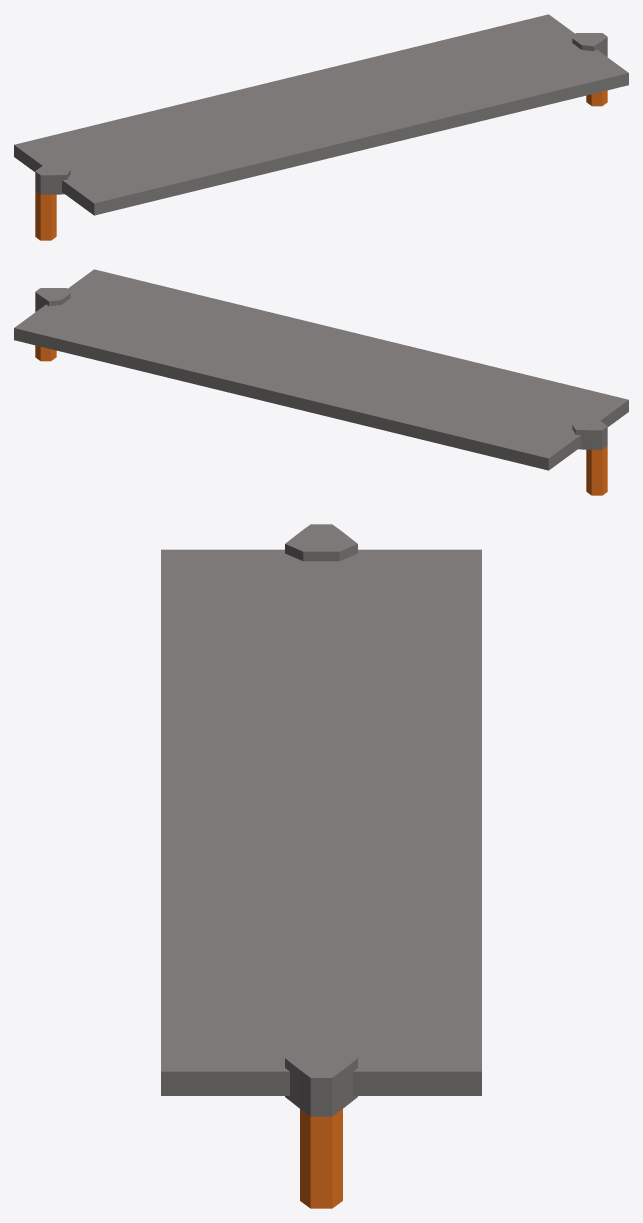
File: scifi_scifi-hydroponic-shelf-top.fbx
The picture shows the model from 3 angles, top to bottom: view 1: azimuth 30°, elevation 25°; view 2: azimuth 150°, elevation 25°; view 3: azimuth 270°, elevation 25°; orthographic projection. The views are drawn at different scales.
Parts seen in each view (by area): view 1: scifi_scifi_hydroponic_shelf_top; view 2: scifi_scifi_hydroponic_shelf_top; view 3: scifi_scifi_hydroponic_shelf_top.
Part boxes in pixels (<box>): scifi_scifi_hydroponic_shelf_top: <box>14,14,628,240</box>; scifi_scifi_hydroponic_shelf_top: <box>14,269,628,495</box>; scifi_scifi_hydroponic_shelf_top: <box>161,524,481,1208</box>.
Size of the model in its own units: 200 by 22.05 by 48.99.
